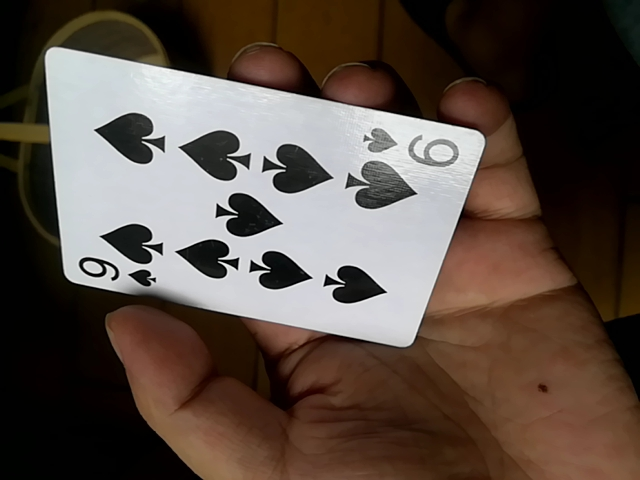ht 9: (46, 48, 493, 350)
